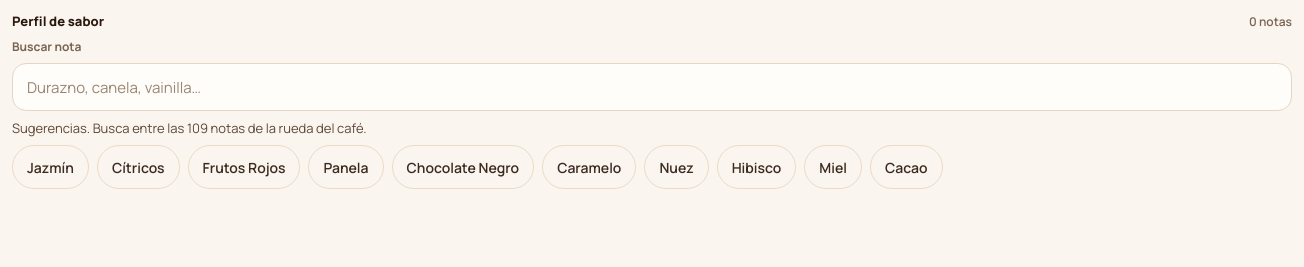
Test: NotaPicker › elige y quita notas; el contador y las notas elegidas se actualizan
Step 1. Click the button "Jazmín" → x=50, y=167, box x1=12 y1=145 x2=89 y2=189
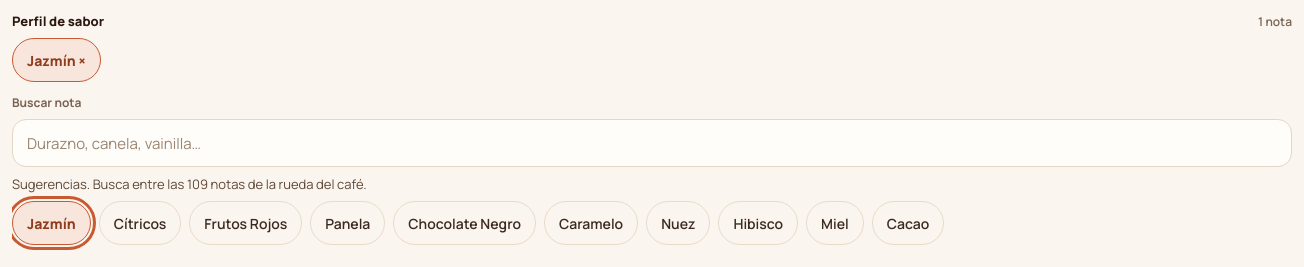
Step 2. Click the button "Cítricos" → x=140, y=223, box x1=99 y1=201 x2=181 y2=245
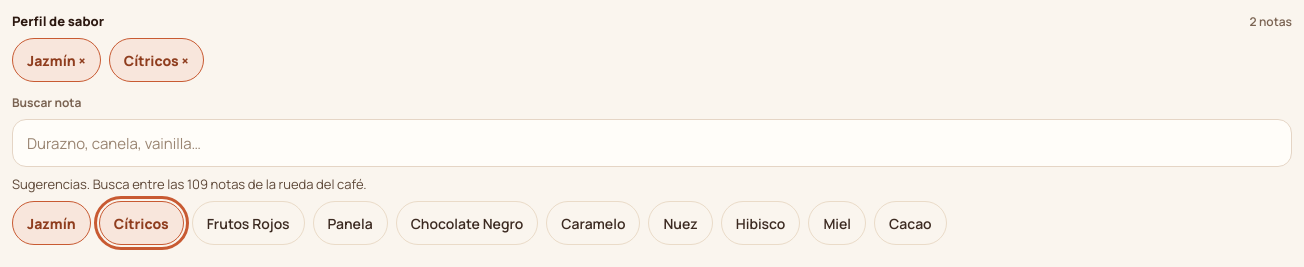
Now the text "2 notas" is shown, box x1=1250 y1=13 x2=1292 y2=30
Now the number of list items is 2
Step 3. Click the button with aria-label "Quitar nota Jazmín" → x=56, y=60, box x1=12 y1=38 x2=101 y2=82
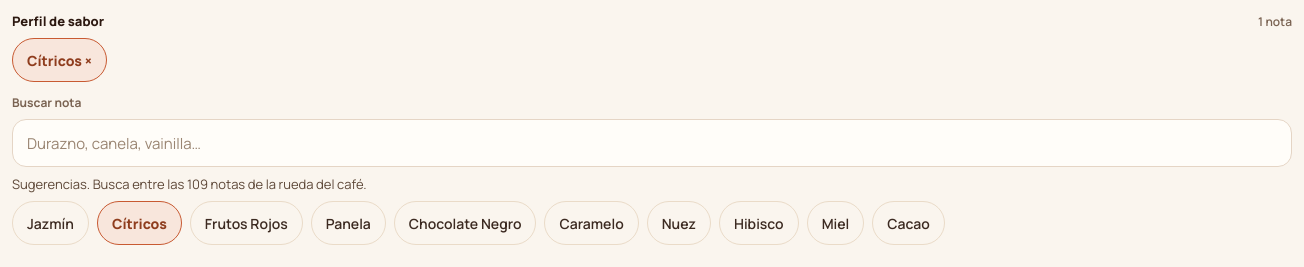
Now the text "1 nota" is shown, box x1=1258 y1=13 x2=1292 y2=30
